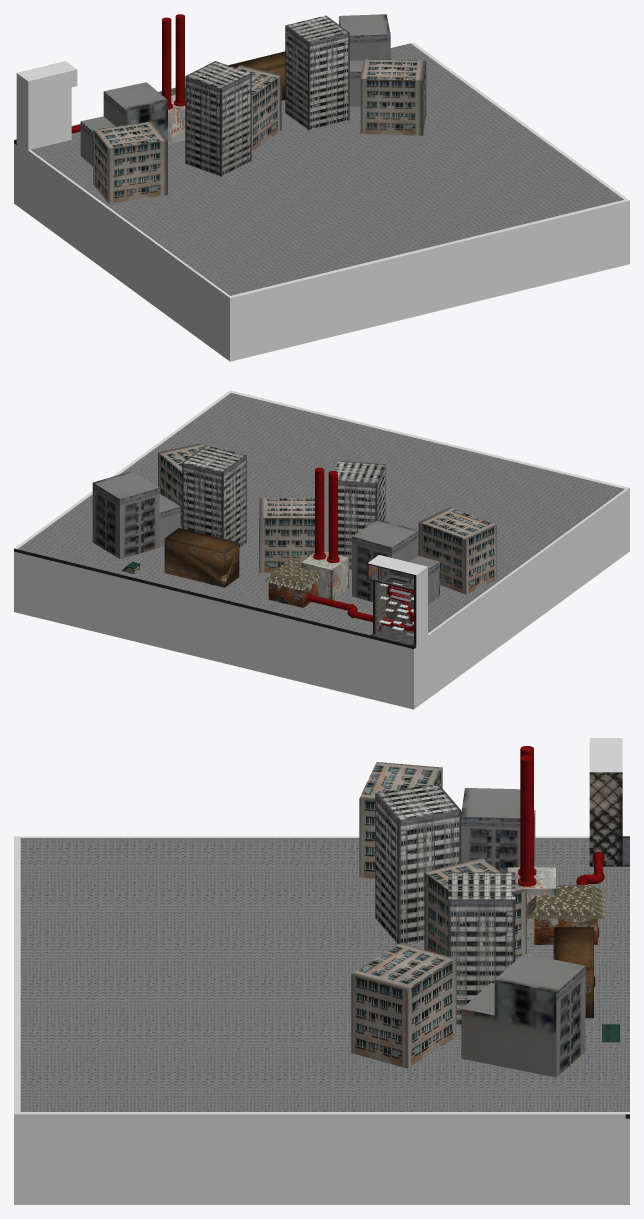
The model's file is ground_zero_v2.glb.
The picture shows the model from 3 angles, top to bottom: view 1: azimuth 30°, elevation 25°; view 2: azimuth 150°, elevation 25°; view 3: azimuth 270°, elevation 25°; orthographic projection. The views are drawn at different scales.
Visible parts, largest first — view 1: Ground0Layout, Building.005, Building, Building.006, Building.004, Building.002, Building.003, Building.001, Pipe, Pipe.001, SpawnLevelBuilding, Factory.001; view 2: Ground0Layout, Building.003, Building, Building.006, Building.001, Building.002, Building.005, SpawnLevelBuilding, Building.004, Factory.001, MainPipe, FactoryRoof (+3 smaller); view 3: Ground0Layout, Building.003, Building.004, Building.005, Building, Building.002, Building.001, Building.006, FactoryRoof, SpawnLevelBuilding, Pipe, Factory (+1 smaller).
Part boxes in pixels (box(x1,y1,x2,y2)): Ground0Layout: box(14, 42, 629, 361); Building.005: box(185, 61, 251, 176); Building: box(285, 15, 349, 130); Building.006: box(93, 121, 167, 203); Building.004: box(360, 59, 426, 135); Building.002: box(80, 82, 167, 166); Building.003: box(339, 14, 390, 106); Building.001: box(236, 65, 281, 151); Pipe: box(174, 14, 185, 106); Pipe.001: box(162, 17, 172, 109); SpawnLevelBuilding: box(228, 51, 285, 100); Factory.001: box(168, 95, 185, 143); Ground0Layout: box(14, 390, 629, 709); Building.003: box(92, 471, 180, 558); Building: box(182, 445, 246, 547); Building.006: box(418, 507, 496, 594); Building.001: box(259, 498, 314, 572); Building.002: box(352, 519, 439, 603); Building.005: box(335, 461, 385, 569); SpawnLevelBuilding: box(164, 528, 239, 587); Building.004: box(158, 443, 203, 527); Factory.001: box(301, 551, 348, 599); MainPipe: box(306, 585, 413, 631); FactoryRoof: box(265, 558, 319, 590); Ground0Layout: box(14, 738, 629, 1204); Building.003: box(461, 953, 585, 1077); Building.004: box(351, 943, 456, 1068); Building.005: box(375, 784, 461, 944); Building: box(448, 872, 515, 1025); Building.002: box(461, 788, 535, 872); Building.001: box(424, 858, 526, 960); Building.006: box(359, 762, 442, 878); FactoryRoof: box(527, 885, 604, 918); SpawnLevelBuilding: box(553, 927, 593, 1018); Pipe: box(518, 755, 536, 886); Factory: box(534, 918, 597, 944).
Size of what is drawn, in the model's own units: 81.73 by 35.53 by 76.52.
30 materials, 28 textured.
